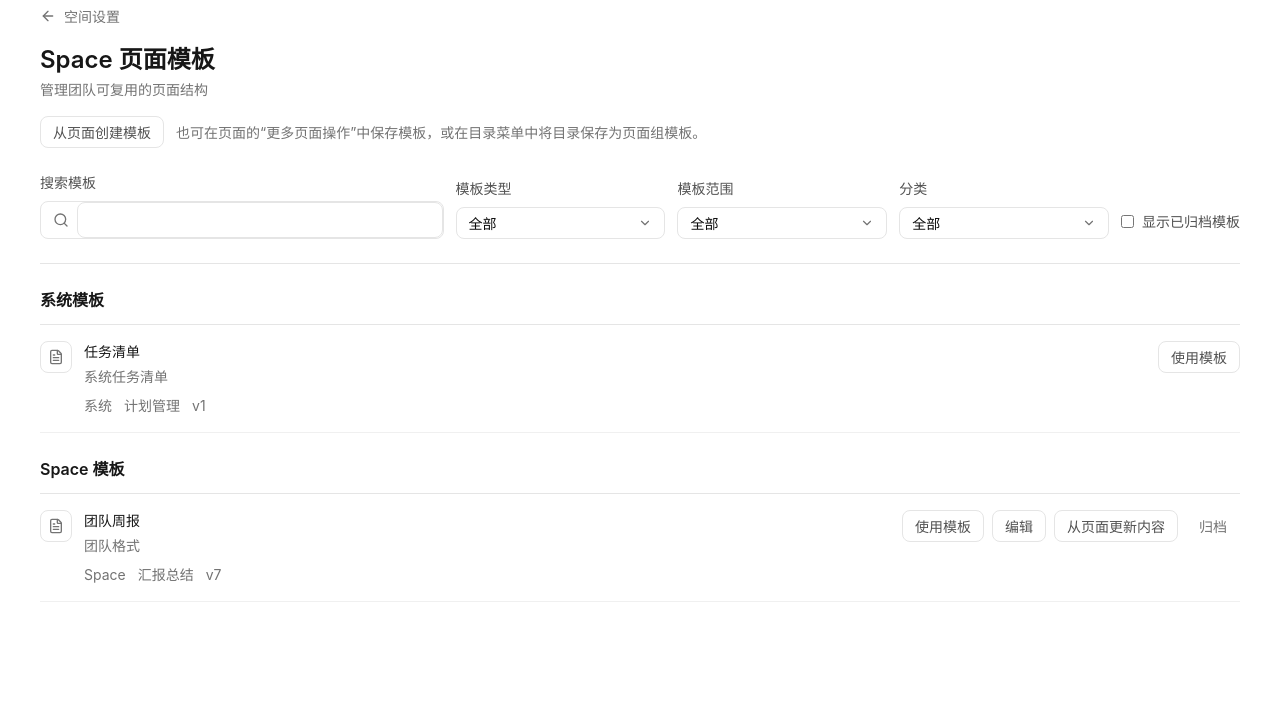
Test: PageTemplateManager › shows source matches, count, exact selected path/date, and an empty search state
Click the button with aria-label "更新内容 团队周报" at (1116,526), box [1054, 510, 1178, 542]
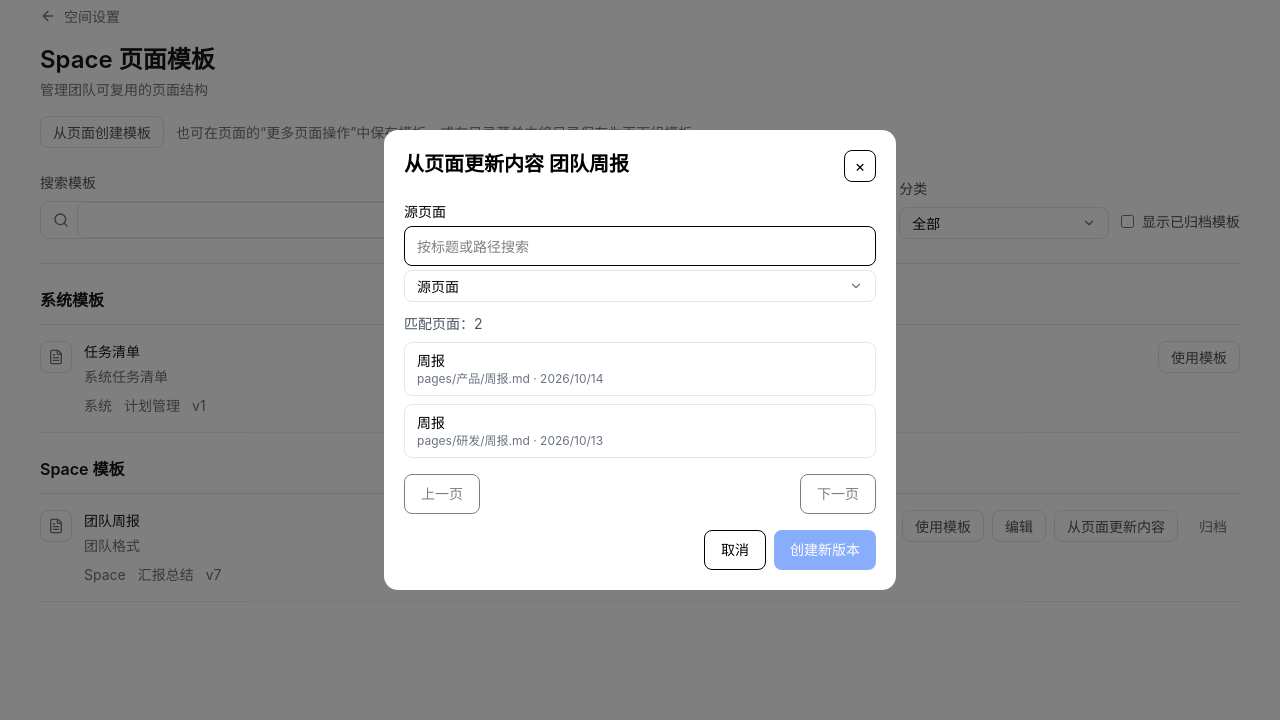
Now the text "匹配页面：2" is shown, box [404, 315, 482, 332]
Click the button "周报 pages/研发/周报.md · 2026/10/13" at (473,440), box [404, 404, 876, 458]
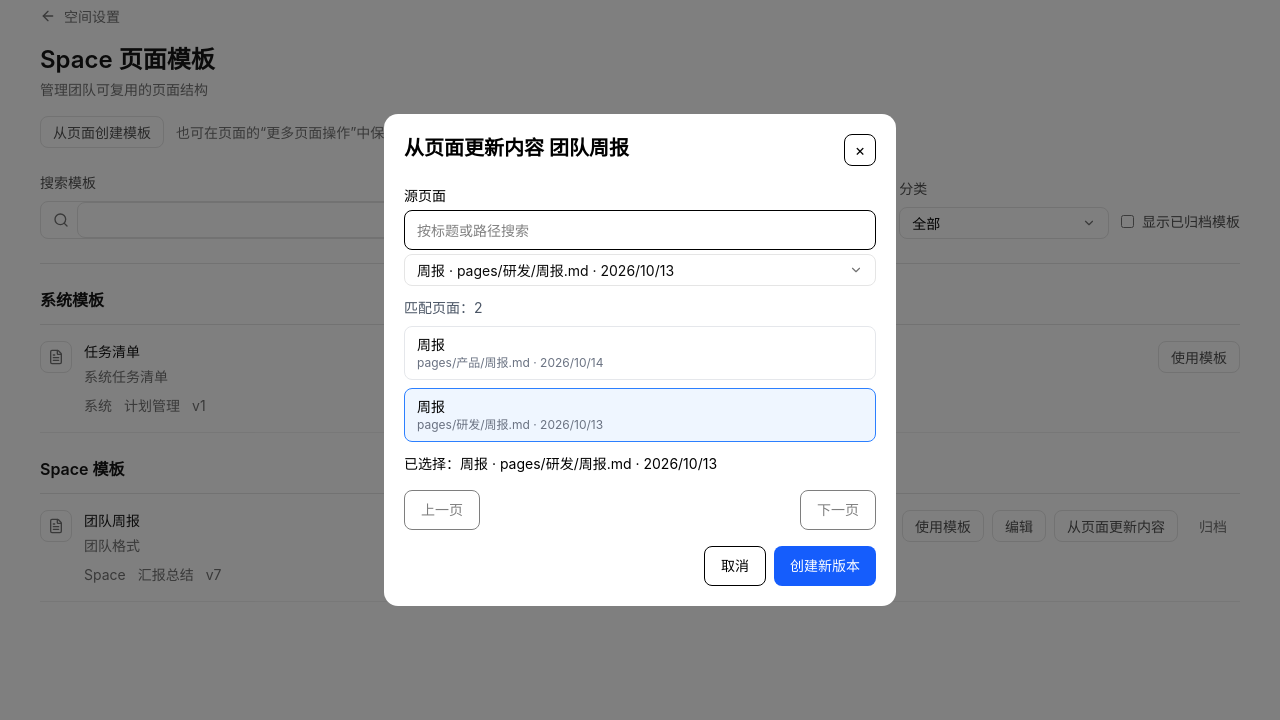
Now the dropdown named "源页面" shows "周报 · pages/研发/周报.md · 2026/10/13", box [404, 254, 876, 286]
Now the text "已选择：周报 · pages/研发/周报.md · 2026/10/13" is shown, box [404, 455, 717, 472]
Type "无匹配" into the field labelled "按标题或路径搜索" at (640,230), box [404, 210, 876, 250]
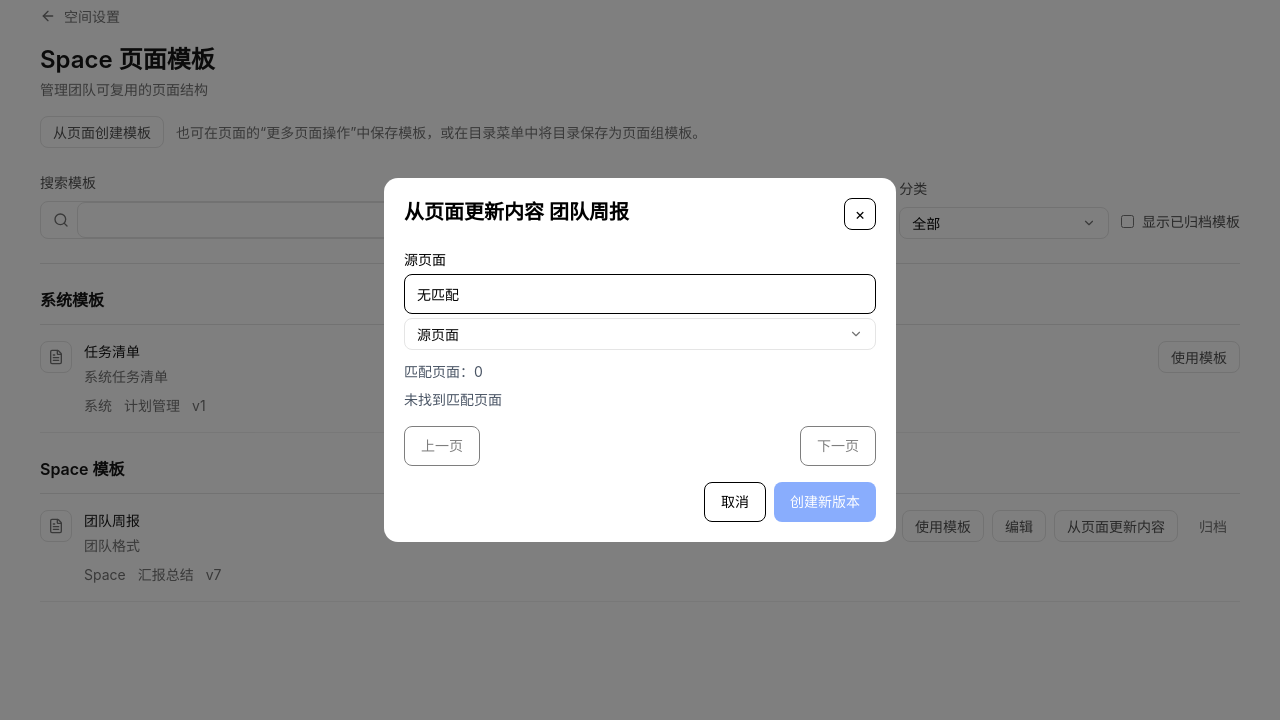
Now the text "未找到匹配页面" is shown, box [404, 391, 502, 408]
Now the button "创建新版本" is disabled, box [774, 482, 876, 522]
